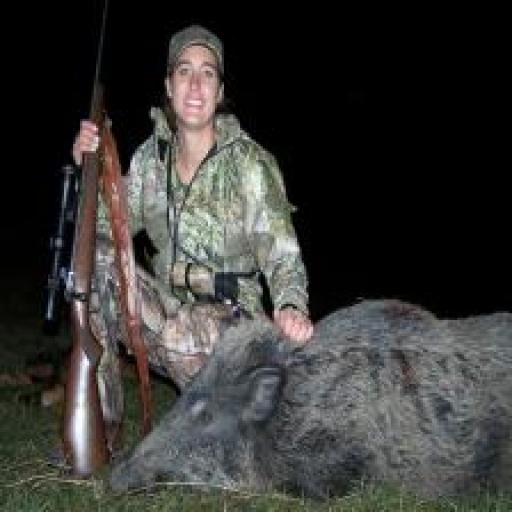Pig: (105, 300, 512, 500)
